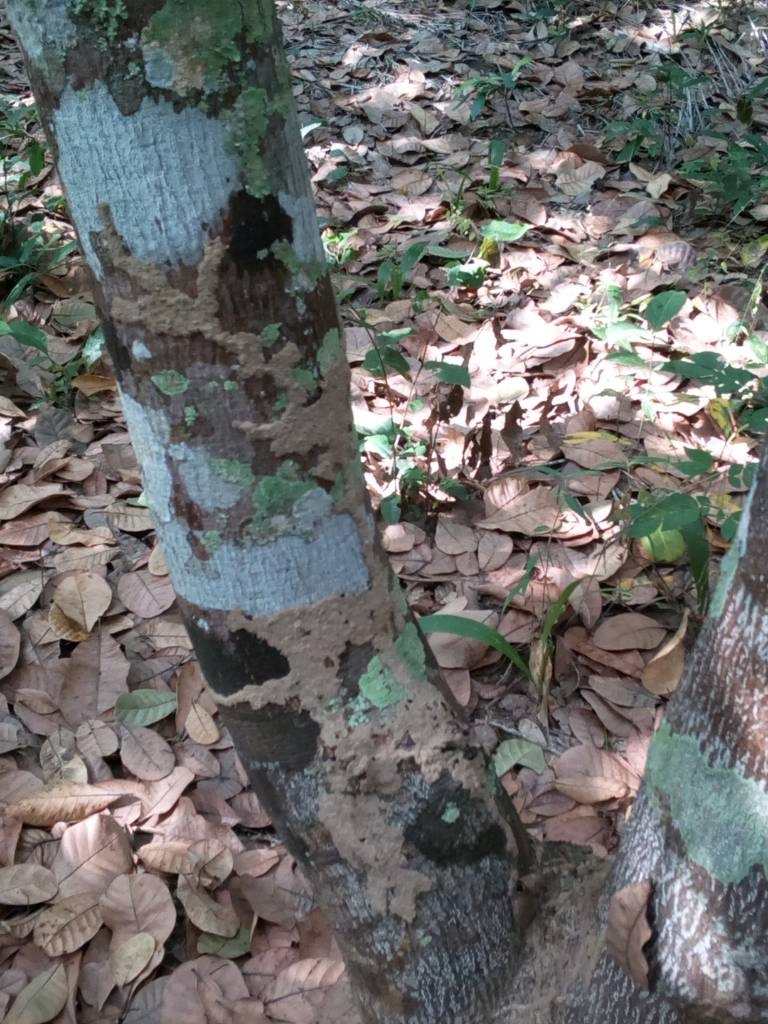Termites: (294, 600, 485, 900), (165, 257, 352, 511)
